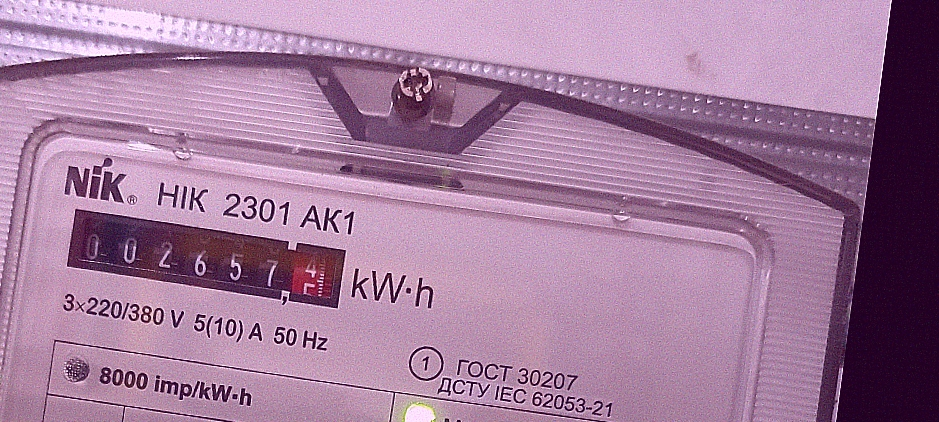0: (119, 233, 138, 265), (82, 230, 102, 260)
2: (155, 238, 175, 269)
4: (302, 251, 320, 278)
5: (225, 250, 245, 282), (300, 280, 317, 296)
6: (191, 246, 209, 277)
7: (261, 255, 280, 289)
screen: (55, 196, 358, 321)
